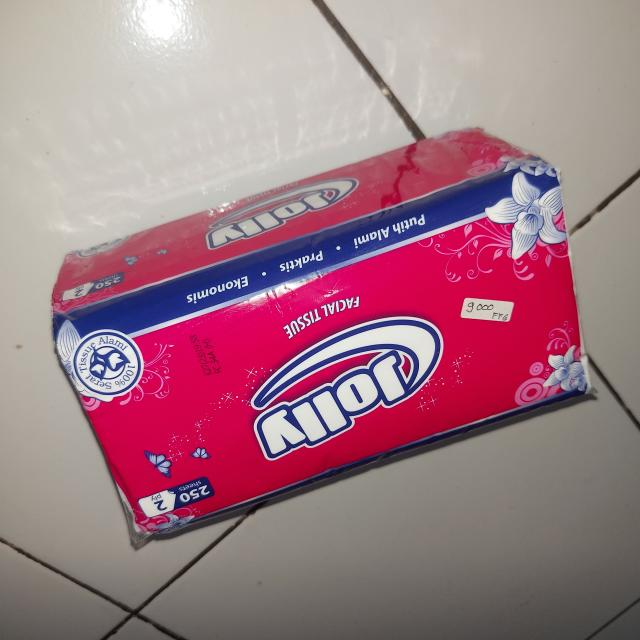Anorganik: (52, 122, 588, 548)
